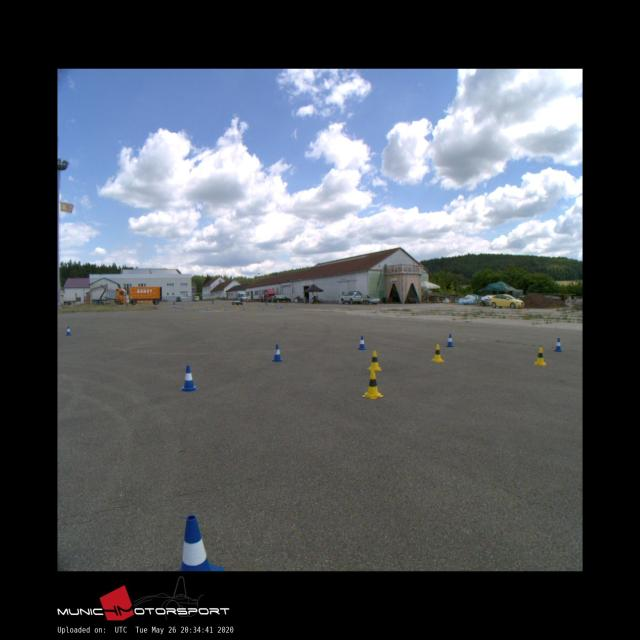blue_cone: (178, 515, 224, 571), (180, 365, 198, 392), (271, 344, 283, 361), (356, 335, 366, 349), (554, 337, 562, 351), (446, 333, 454, 346), (66, 326, 71, 336)
yellow_cone: (362, 370, 383, 399), (368, 350, 380, 370), (430, 344, 443, 361), (534, 347, 546, 365)
